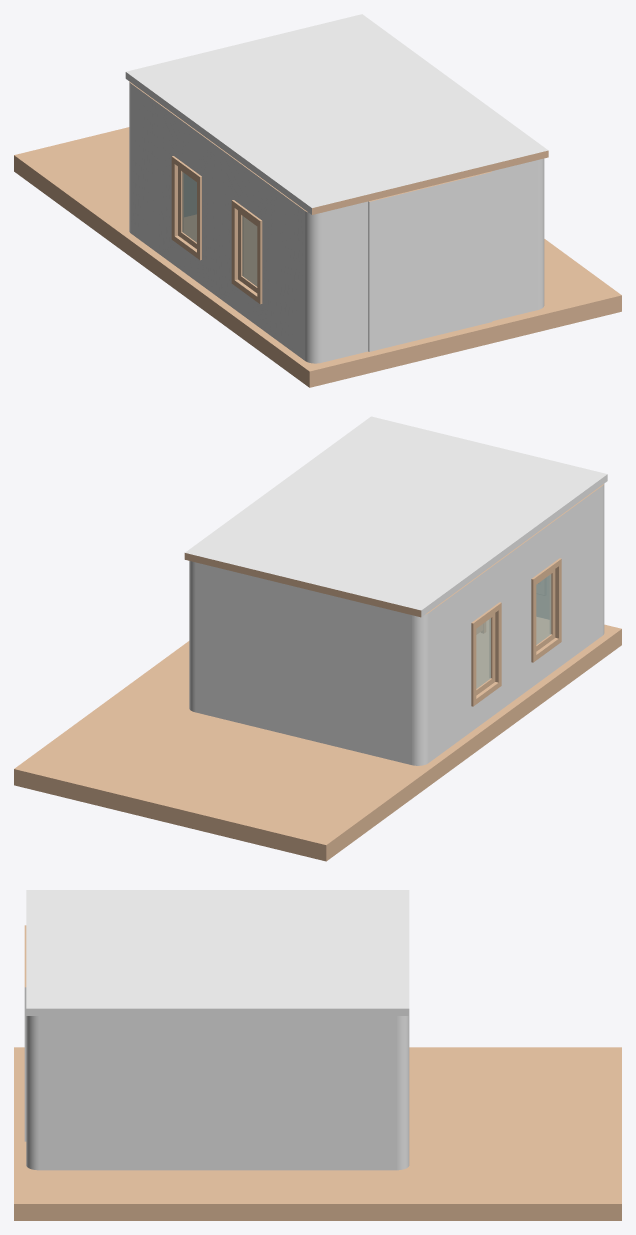
File: speacialProj.glb
The picture shows the model from 3 angles, top to bottom: view 1: azimuth 30°, elevation 25°; view 2: azimuth 150°, elevation 25°; view 3: azimuth 270°, elevation 25°; orthographic projection. The views are drawn at different scales.
Visible parts, largest first — view 1: wall(Clone).002, floorFull(Clone), wall(Clone).001, wallCornerRond(Clone).001, wallCornerRond(Clone), wallWindow(Clone).002, wallWindow(Clone), wallCornerRond(Clone).003, window.002, window.003, window, window.001; view 2: floorFull(Clone), wall(Clone).002, wallCornerRond(Clone).002, wallCornerRond(Clone).003, wallWindow(Clone).002, wallWindow(Clone), wallCornerRond(Clone).001, window.003, window.002, window, window.001; view 3: floorFull(Clone), wall(Clone).002, wallCornerRond(Clone).002, wallCornerRond(Clone), wall(Clone).001.
Part boxes in pixels (x1,y1,x2,y2): wall(Clone).002: [125, 14, 548, 214]; floorFull(Clone): [14, 127, 621, 387]; wall(Clone).001: [368, 171, 492, 351]; wallCornerRond(Clone).001: [278, 191, 368, 363]; wallCornerRond(Clone): [492, 158, 544, 320]; wallWindow(Clone).002: [158, 103, 218, 296]; wallWindow(Clone): [218, 147, 278, 340]; wallCornerRond(Clone).003: [129, 81, 184, 252]; window.002: [238, 210, 257, 291]; window.003: [178, 167, 196, 248]; window: [241, 215, 257, 292]; window.001: [178, 167, 196, 243]; floorFull(Clone): [14, 617, 621, 861]; wall(Clone).002: [184, 416, 607, 617]; wallCornerRond(Clone).002: [189, 561, 364, 753]; wallCornerRond(Clone).003: [365, 593, 455, 765]; wallWindow(Clone).002: [455, 549, 515, 743]; wallWindow(Clone): [515, 505, 575, 699]; wallCornerRond(Clone).001: [548, 484, 604, 654]; window.003: [476, 613, 495, 695]; window.002: [536, 569, 555, 651]; window: [536, 569, 555, 644]; window.001: [476, 618, 491, 688]; floorFull(Clone): [14, 1047, 621, 1220]; wall(Clone).002: [26, 890, 409, 1015]; wallCornerRond(Clone).002: [178, 1016, 409, 1170]; wallCornerRond(Clone): [26, 1016, 178, 1170]; wall(Clone).001: [24, 925, 26, 1141].
Size of the model in its own units: 15 by 7.95 by 24.59.
